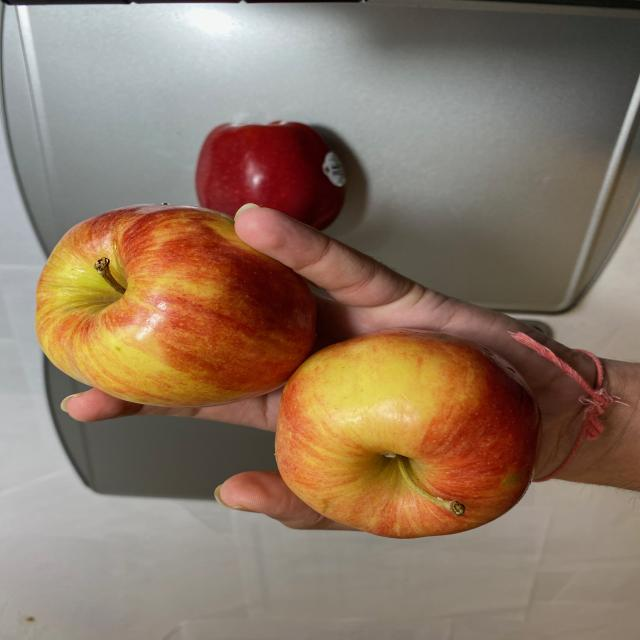apple: (34, 202, 537, 540), (174, 120, 354, 227)
